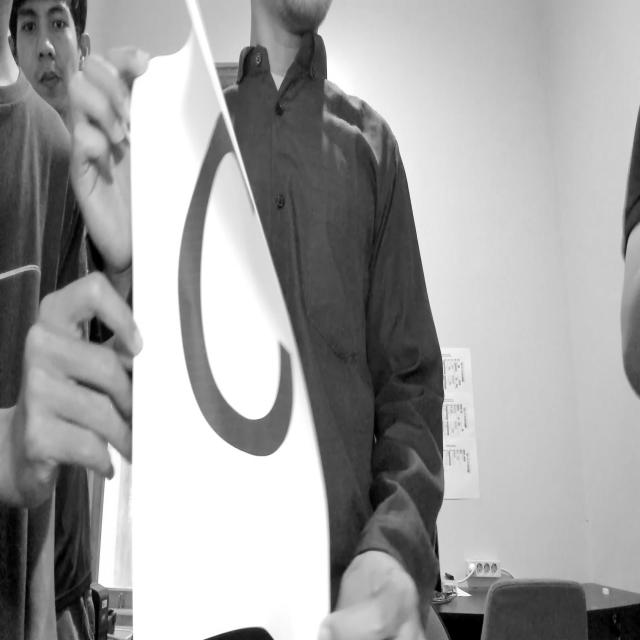c: (173, 138, 301, 490)
